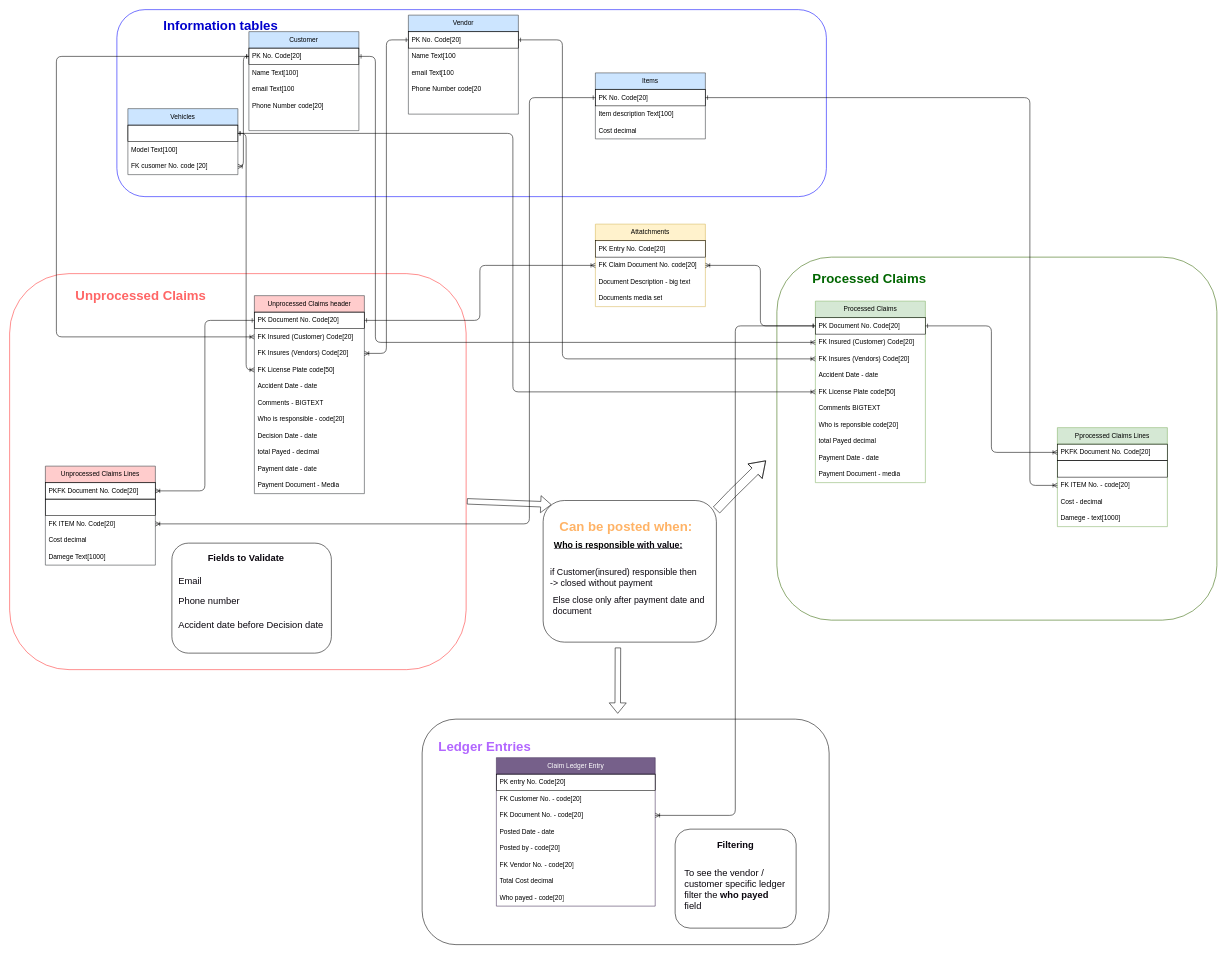
Some shapes in this 1227 by 954 pixel diagram are drawn without their labels. The centre of each missing label's shape, as x and y in pixels:
"PK License Plate code[50]" goes at point 182,133.
"PK lineNo. - code[20]" goes at point 1112,468.
"PK lineNo. Code[20]" goes at point 100,507.
